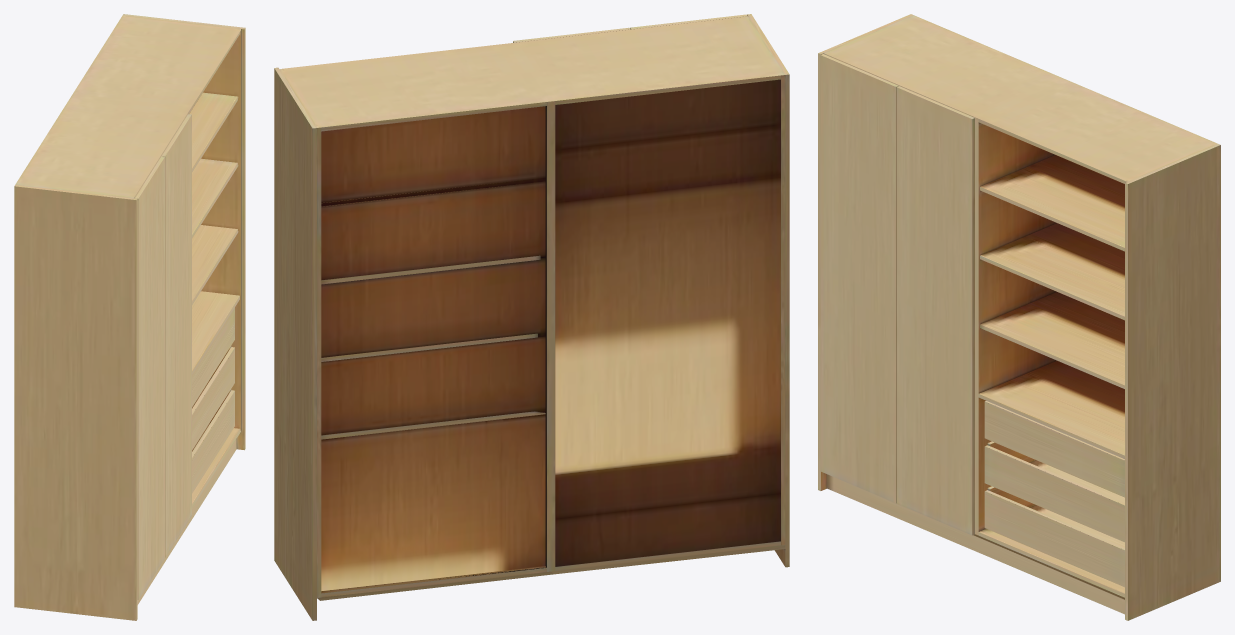
The model's file is closet3-transformed.glb.
The picture shows the model from 3 angles, left to right: view 1: azimuth 30°, elevation 25°; view 2: azimuth 150°, elevation 25°; view 3: azimuth 270°, elevation 25°; orthographic projection. The views are drawn at different scales.
Parts seen in each view (by area): view 1: vrijstaand.001_Baked, door_plate.010_Baked, door_plate.011_Baked, schuif3_Baked, schuif2_Baked, schuif1_Baked; view 2: vrijstaand.001_Baked; view 3: vrijstaand.001_Baked, door_plate.011_Baked, door_plate.010_Baked, schuif2_Baked, schuif3_Baked, schuif1_Baked.
Part boxes in pixels (box(x1,y1,x2,y2)): vrijstaand.001_Baked: box(14, 14, 245, 620); door_plate.010_Baked: box(135, 156, 164, 599); door_plate.011_Baked: box(162, 114, 191, 557); schuif3_Baked: box(192, 389, 234, 493); schuif2_Baked: box(192, 346, 234, 450); schuif1_Baked: box(192, 307, 234, 406); vrijstaand.001_Baked: box(274, 14, 789, 620); vrijstaand.001_Baked: box(818, 14, 1220, 620); door_plate.011_Baked: box(896, 86, 974, 535); door_plate.010_Baked: box(820, 54, 898, 503); schuif2_Baked: box(984, 441, 1124, 542); schuif3_Baked: box(984, 486, 1124, 587); schuif1_Baked: box(984, 401, 1124, 497).
Size of the model in its own units: 0.2758 by 0.33 by 0.2758.
1 material, 1 textured.
